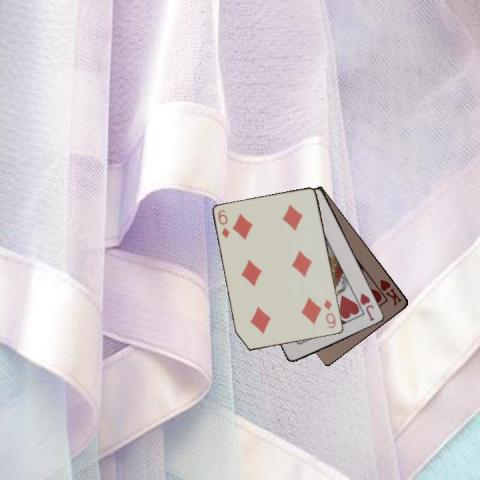6d: (321, 297, 338, 330), (216, 207, 232, 239)
Jh: (357, 290, 376, 323)
Kh: (377, 276, 403, 307)
